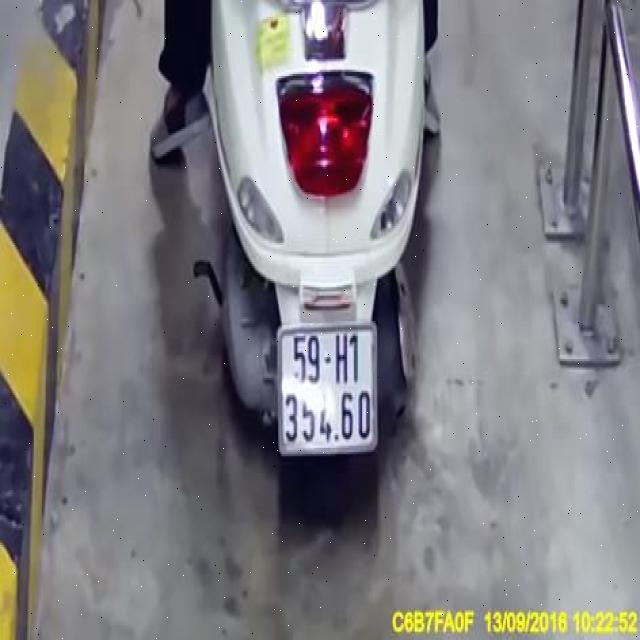0: (357, 386, 372, 442)
1: (349, 332, 361, 387)
3: (281, 387, 299, 447)
4: (318, 388, 332, 444)
5: (300, 387, 316, 444), (291, 332, 308, 384)
6: (340, 388, 356, 445)
9: (308, 332, 322, 386)
H: (333, 328, 350, 388)
